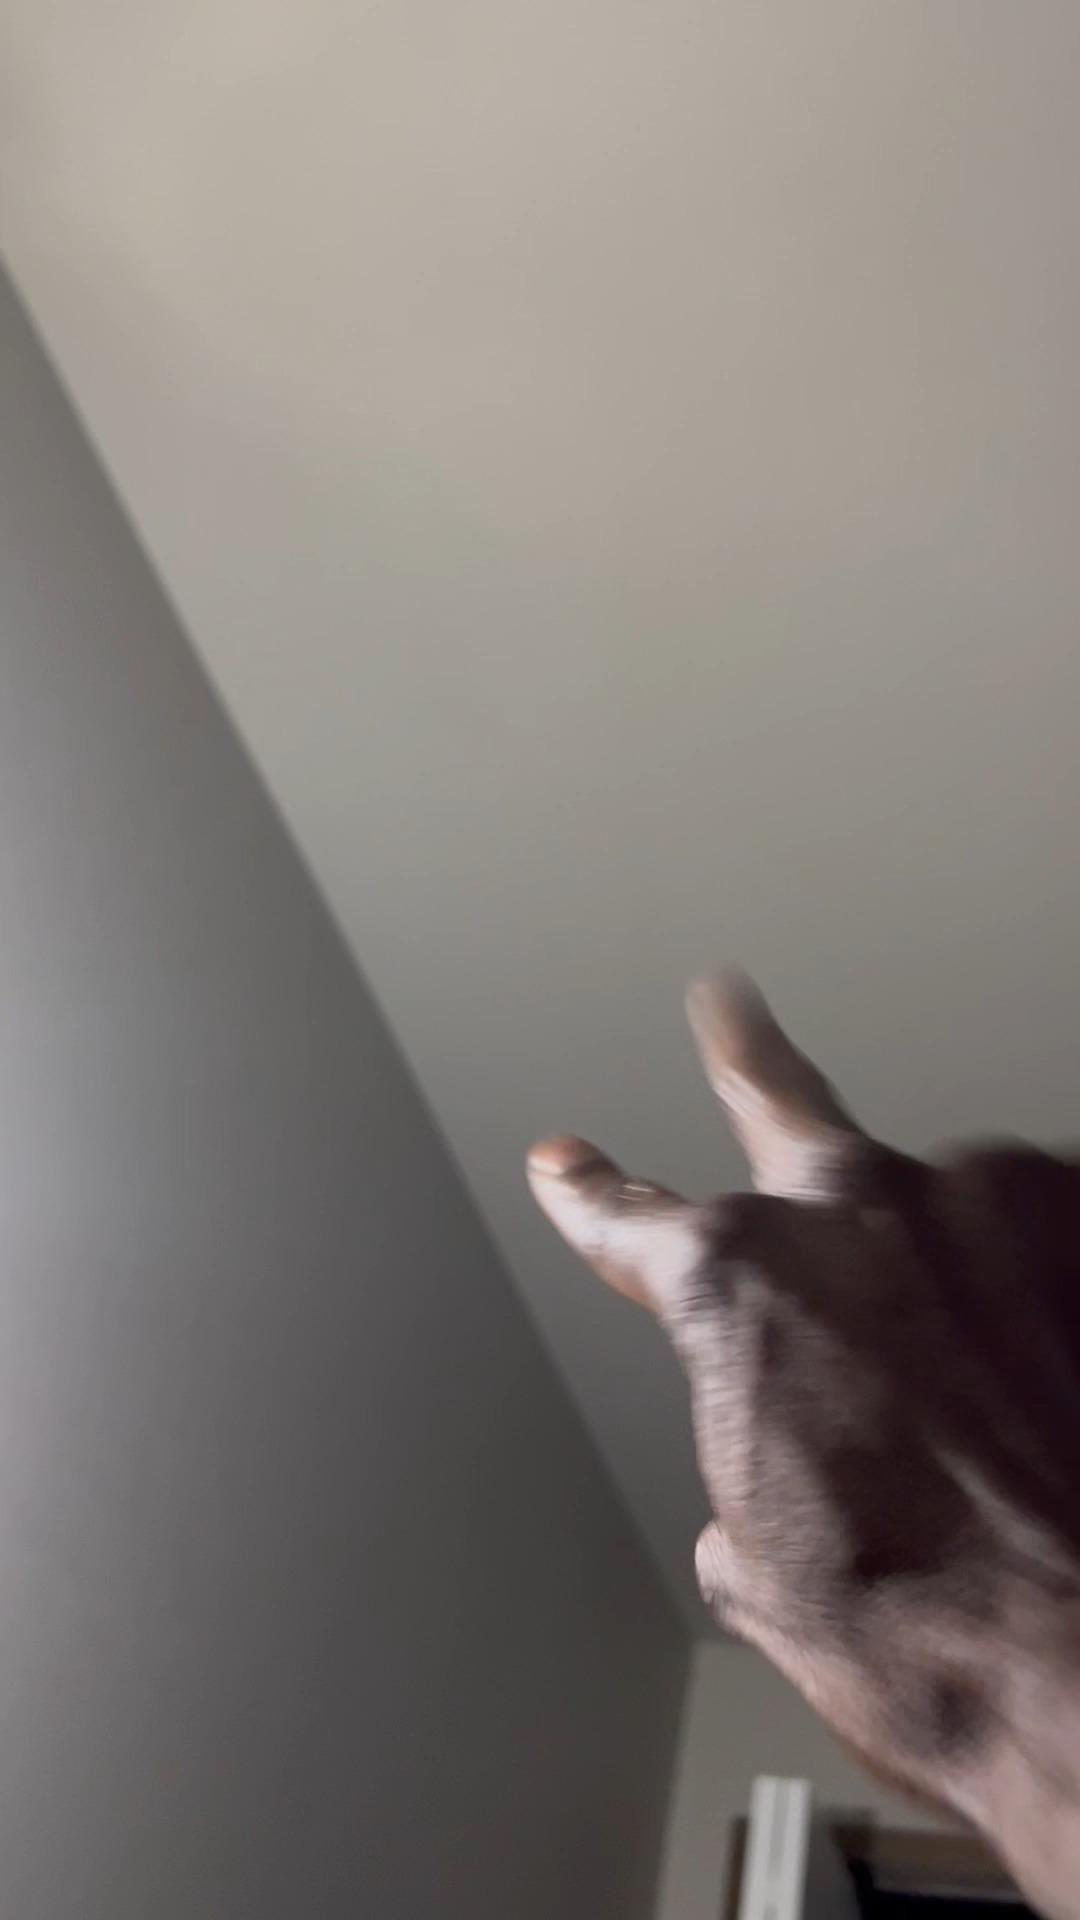Scissors: (533, 968, 1080, 1920)
